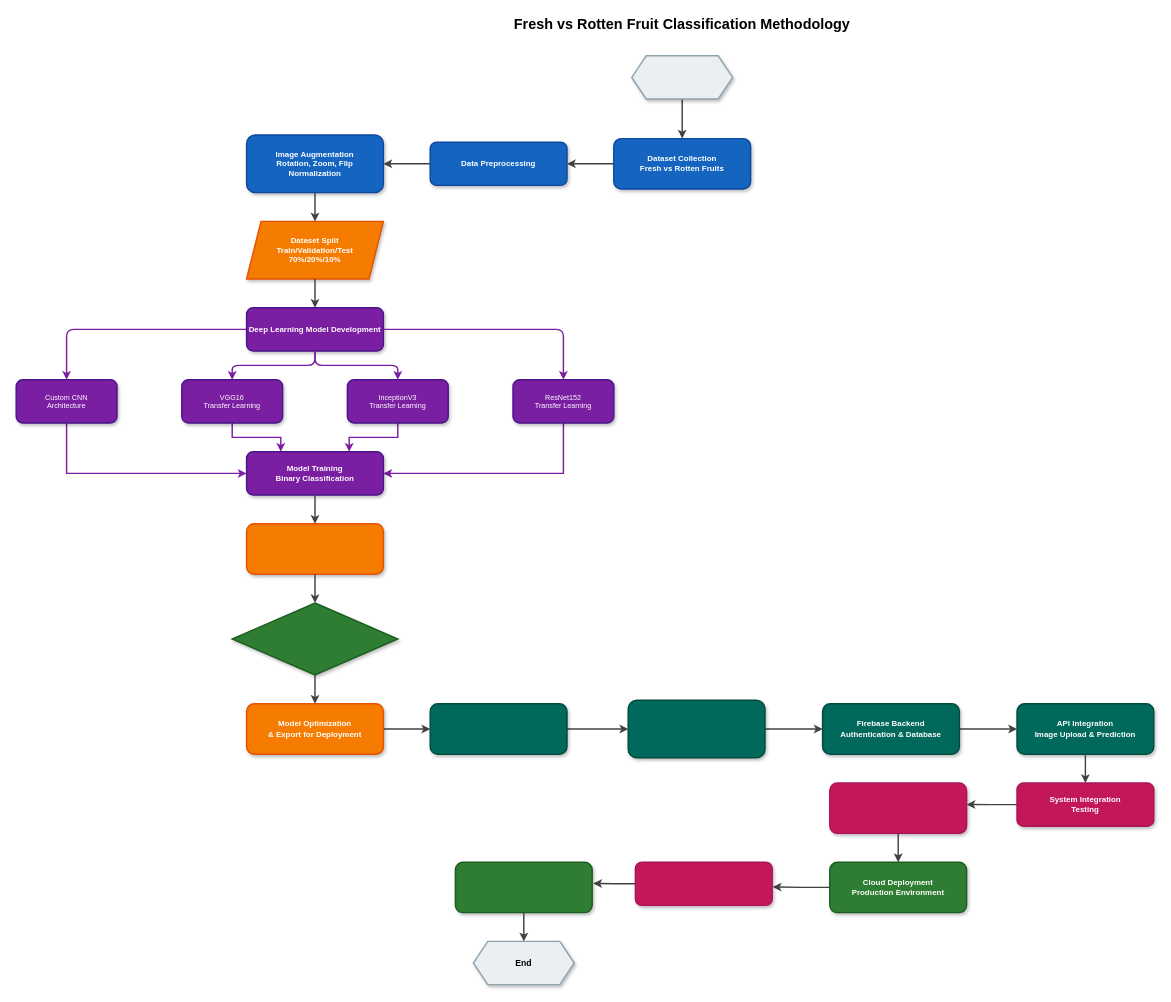
Image size: 1171x1002. Some labels were removed from this diagram. Each missing label, with the centre of its shape:
"Final Release & Documentation" goes at (x=524, y=888).
"Mobile App UI/UX Design & Development React Native" goes at (x=697, y=729).
"Model Evaluation Accuracy, Loss, Validation" goes at (x=315, y=550).
"Performance Comparison & Best Model Selection" goes at (x=315, y=639).
"Performance Testing & Bug Fixes" goes at (x=898, y=809).
"REST API Development FastAPI Framework" goes at (x=499, y=730).
"Start" goes at (x=682, y=78).
"User Acceptance Testing" goes at (x=704, y=884).
